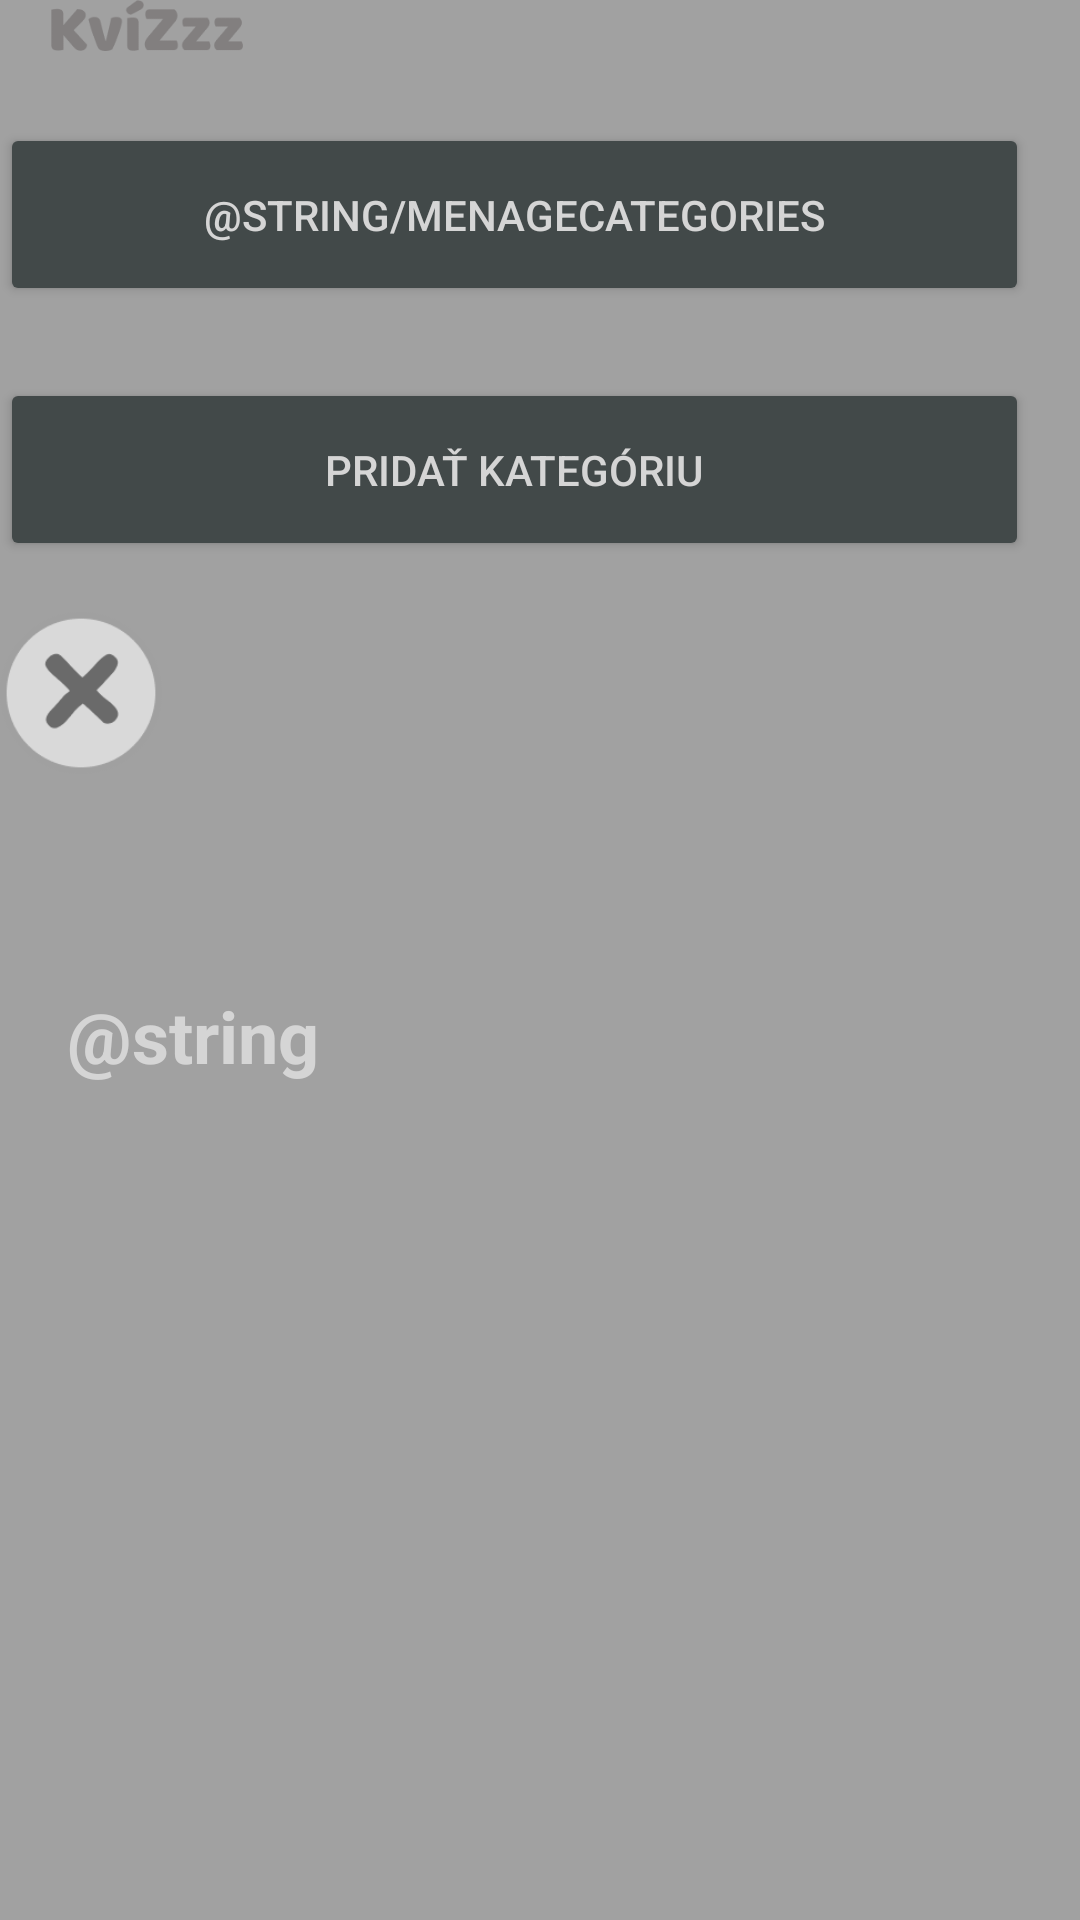

Icons on this 1080×1920 Android screen, each with the point to tap as (x=x, y=y):
exit: (x=81, y=693)
